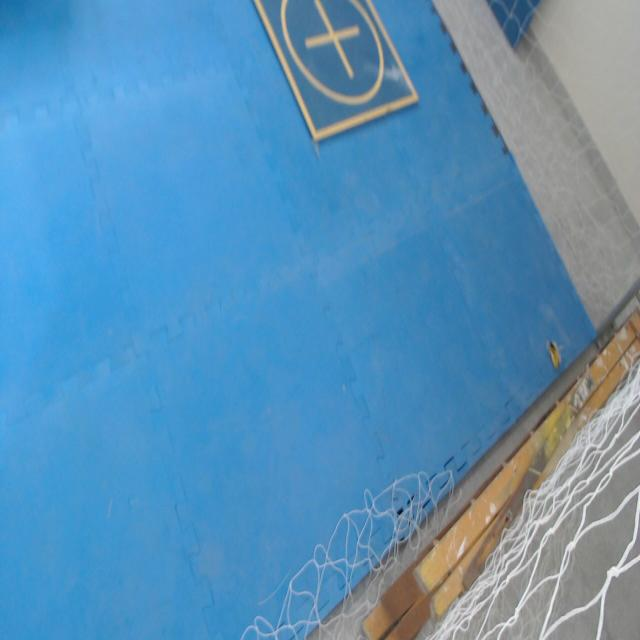base_pouso: (254, 1, 422, 140)
